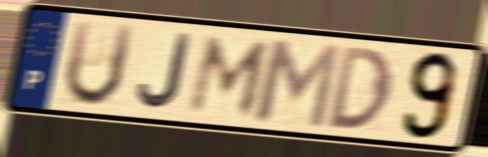9: (398, 48, 463, 143)
D: (326, 43, 395, 132)
J: (135, 30, 195, 112)
M: (252, 35, 344, 132), (184, 33, 276, 118)
U: (61, 18, 139, 110)
